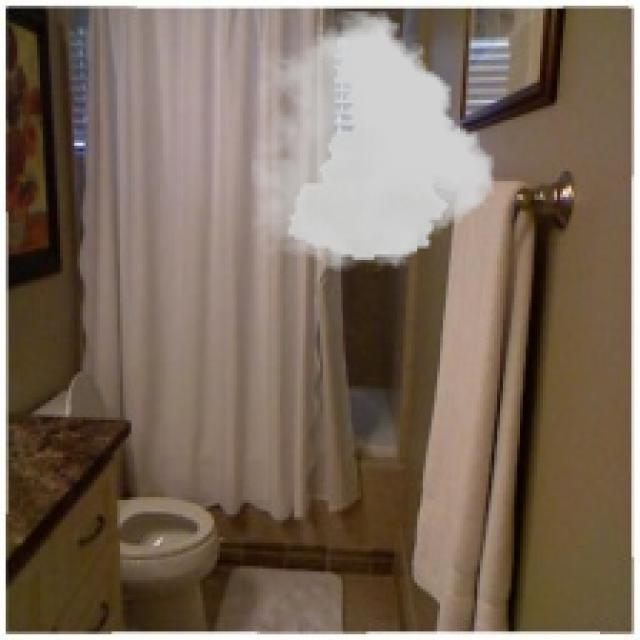smoke: (252, 12, 494, 272)
